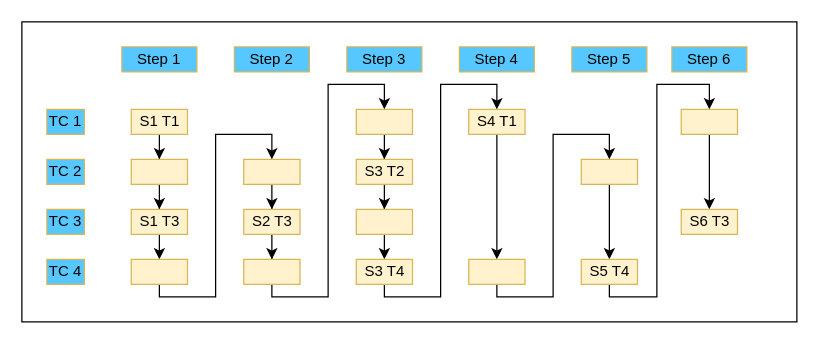
This 819x344 diagram has some shape labels left out. The centre of each missing label's shape, as x and y in pixels:
"S1 T2" belongs at (159,171).
"S1 T4" belongs at (159,271).
"S2 T2" belongs at (271,171).
"S2 T4" belongs at (271,271).
"S3 T1" belongs at (383,121).
"S3 T3" belongs at (383,221).
"S4 T4" belongs at (496,271).
"S5 T2" belongs at (609,171).
"S6 T1" belongs at (709,121).
